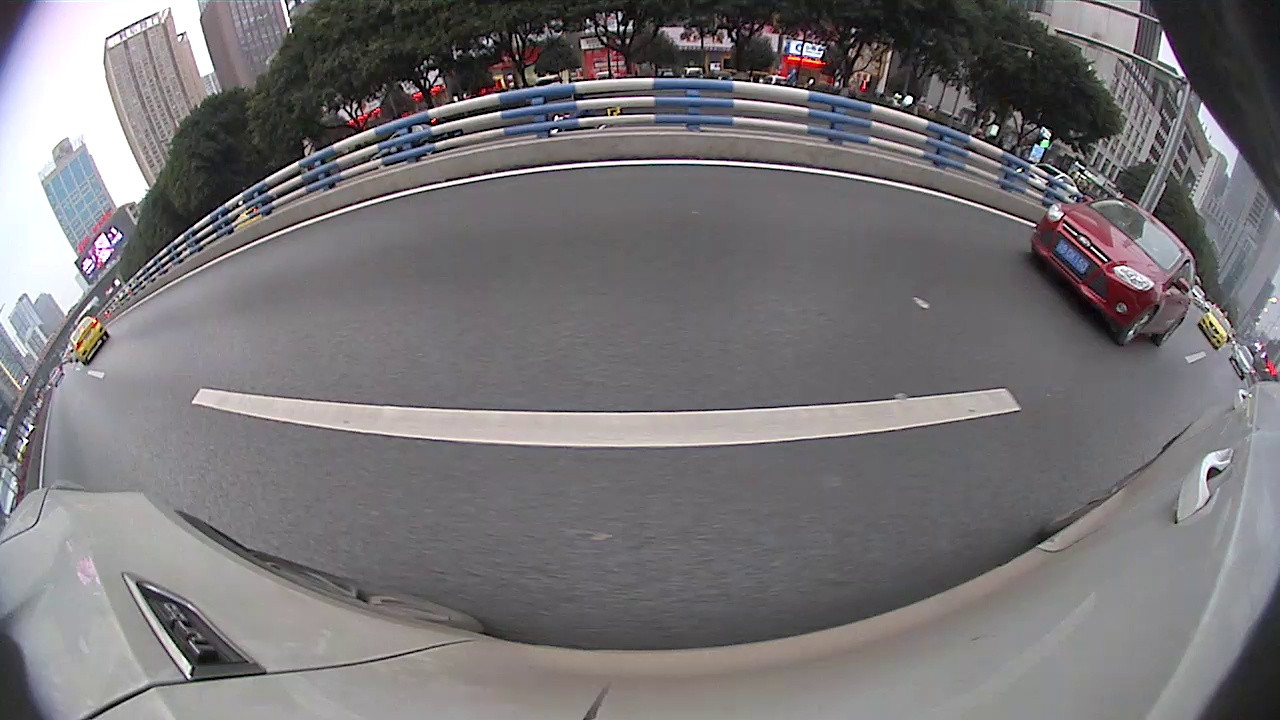car: (254, 142, 530, 287), (657, 119, 910, 259), (1173, 312, 1277, 446), (863, 151, 1000, 251), (1113, 254, 1258, 330), (986, 190, 1097, 279), (503, 155, 578, 203)
front: (1203, 374, 1264, 451), (1118, 274, 1148, 313), (515, 185, 534, 226), (655, 182, 667, 215)
rear: (409, 213, 452, 276), (709, 187, 737, 249), (1004, 232, 1034, 268)
